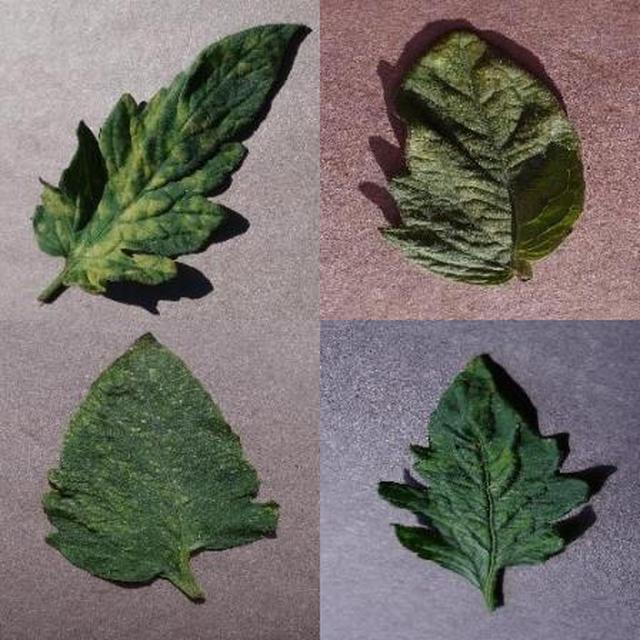Leaf Mold: (233, 223, 640, 640)
